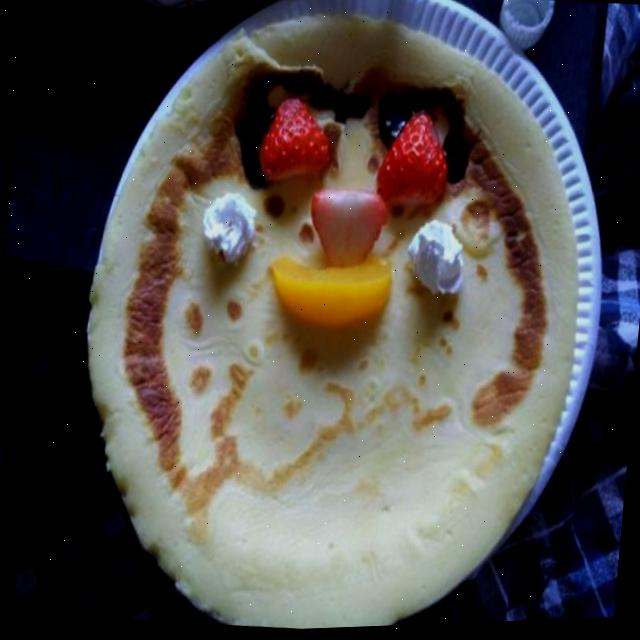蛋糕甜品: (41, 0, 634, 639)
